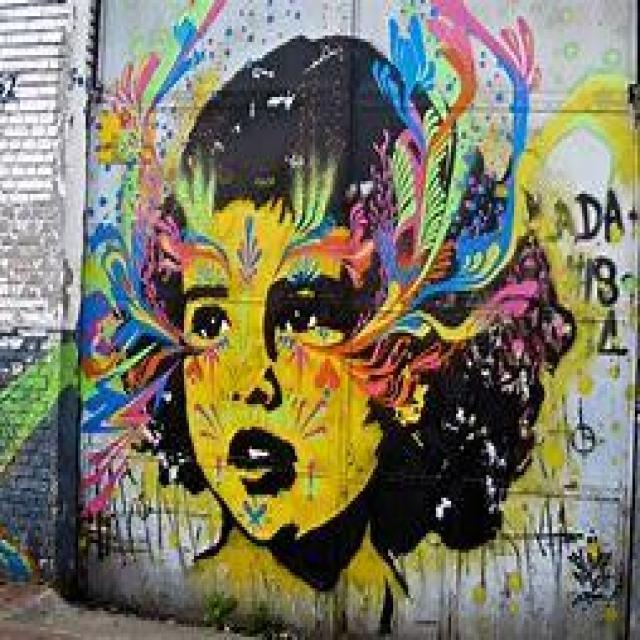nonspitting: (552, 188, 630, 360)
spitting: (123, 32, 580, 616)
